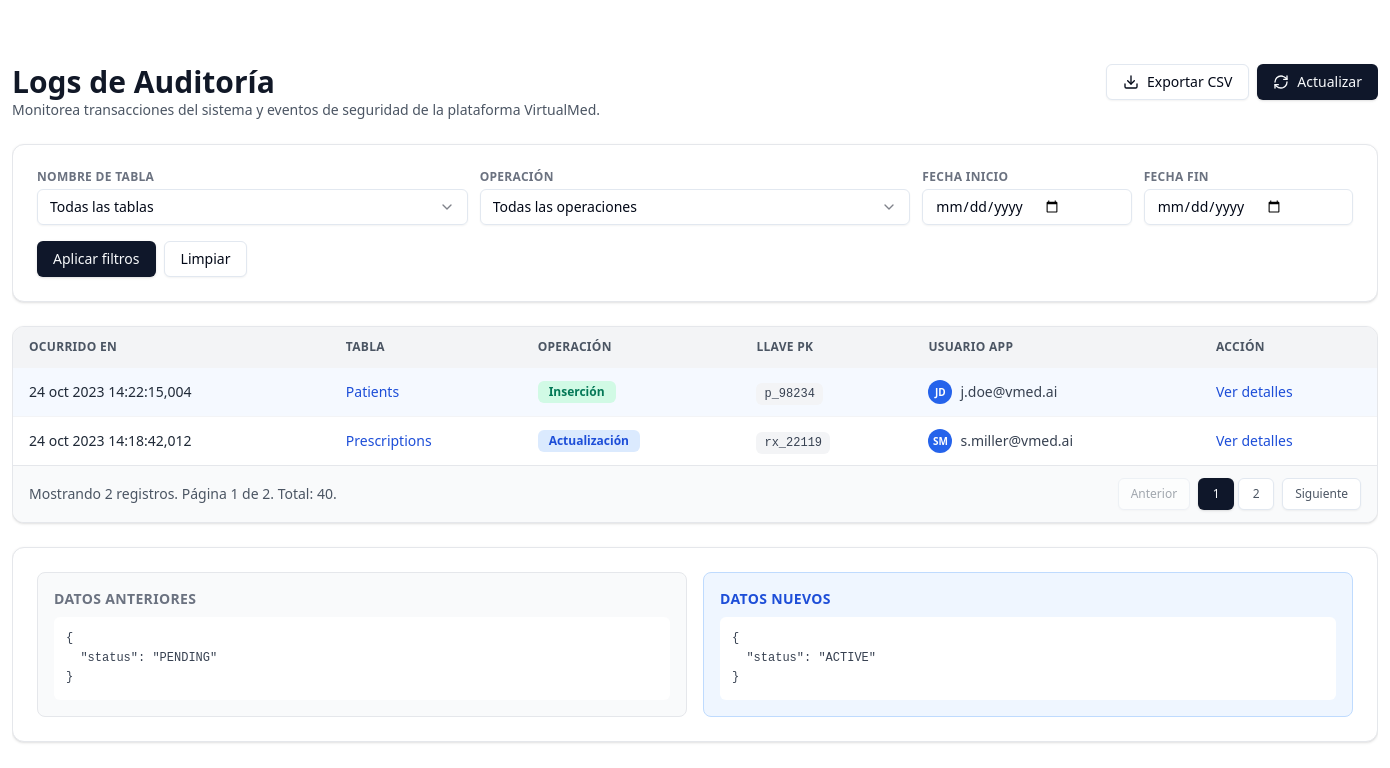
Scenario: AuditLogsView › muestra el detalle al presionar Ver detalles
Expected: the text "Prescriptions" is shown, [330,416,522,465]
What coordinates should you click on to do the following:
click the button "Ver detalles" in the row of "24 oct 2023 14:18:42,012"
I would click on:
 (1254, 441)
Its box is [1216,431,1293,451].
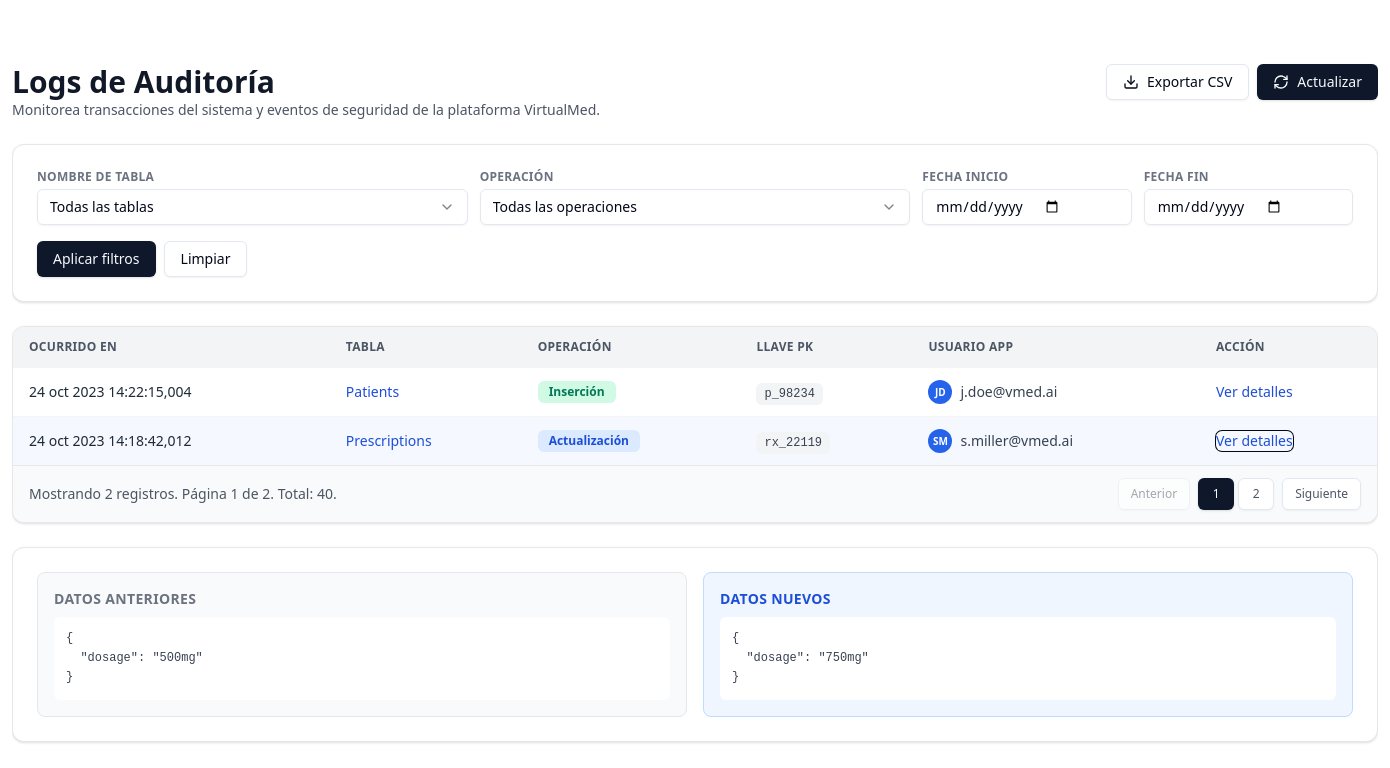
Expected: the text "{ \"dosage\": \"500mg\" }" is shown, [54,617,670,700]
Expected: the text "{ \"dosage\": \"750mg\" }" is shown, [720,617,1336,700]
